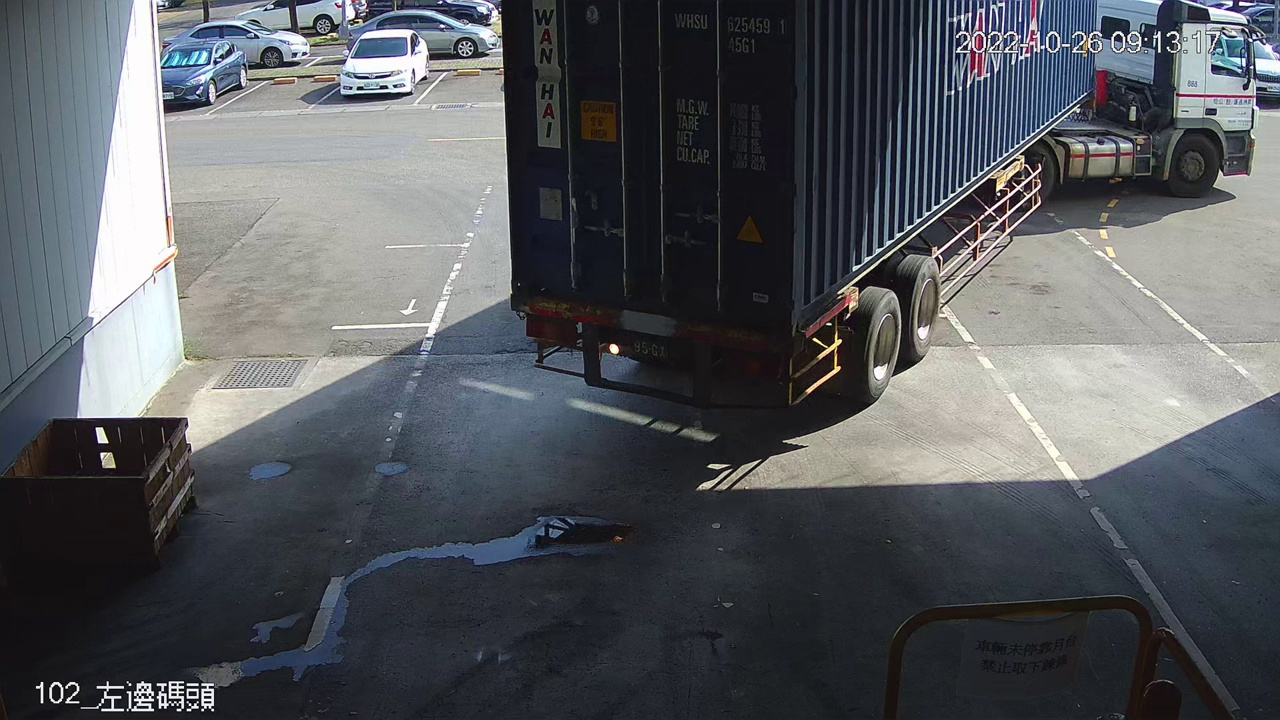container: (666, 4, 789, 63)
